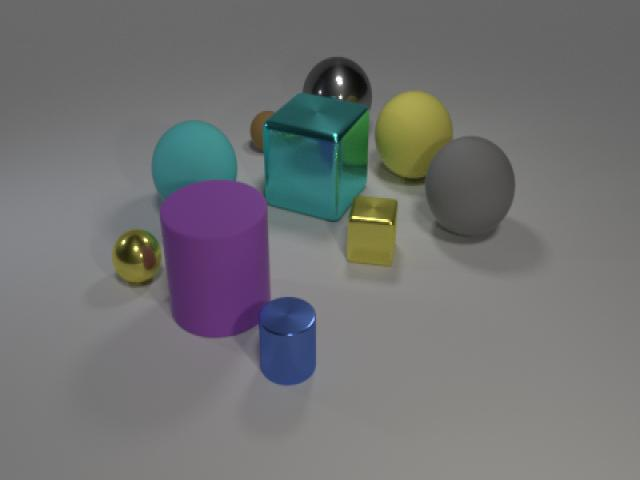cylinder: (157, 175, 275, 340), (256, 292, 322, 387)
round ball: (420, 131, 518, 240), (148, 115, 240, 209), (374, 84, 456, 182), (300, 53, 374, 129), (111, 224, 162, 286), (247, 105, 286, 150)
